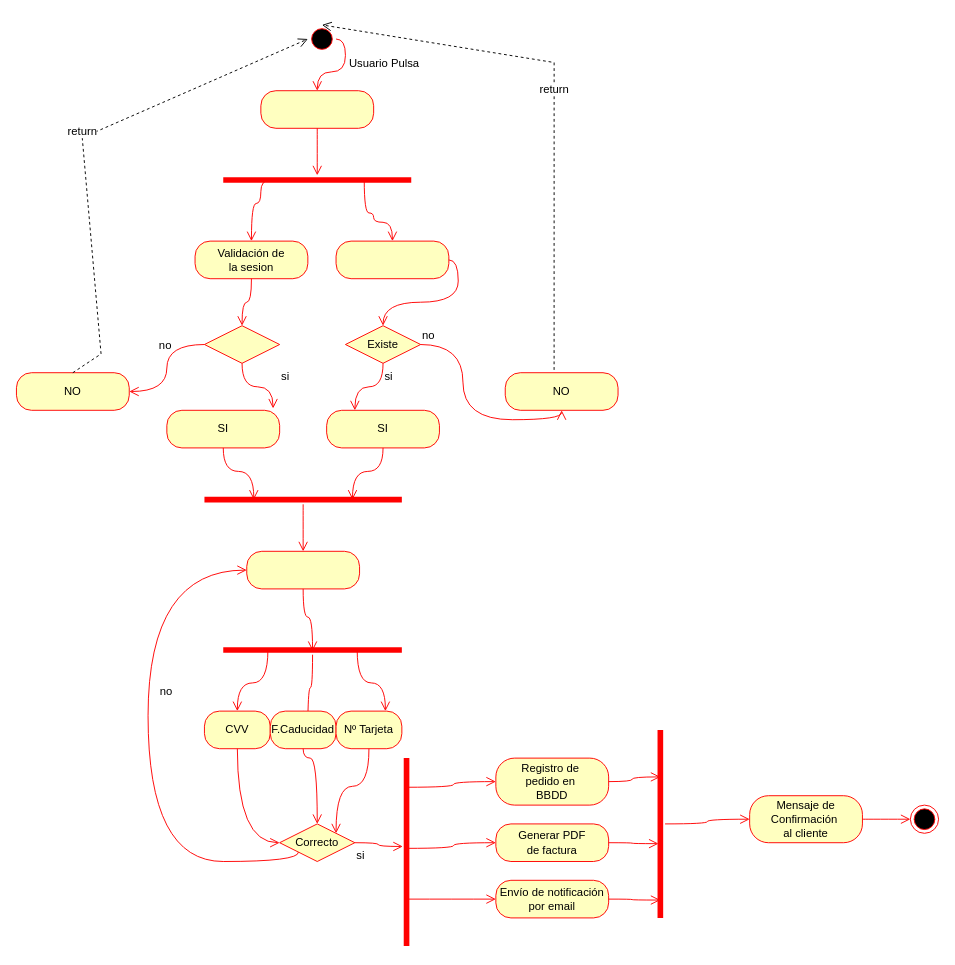
This 955x965 diagram has some shape labels left out. Here are the shapes that lost their labels. From the top down, the centre of each, then its label:
(317,109): Finalizar Compra
(392,259): Stock
(242,344): Correcta
(303,569): Pago seguro
